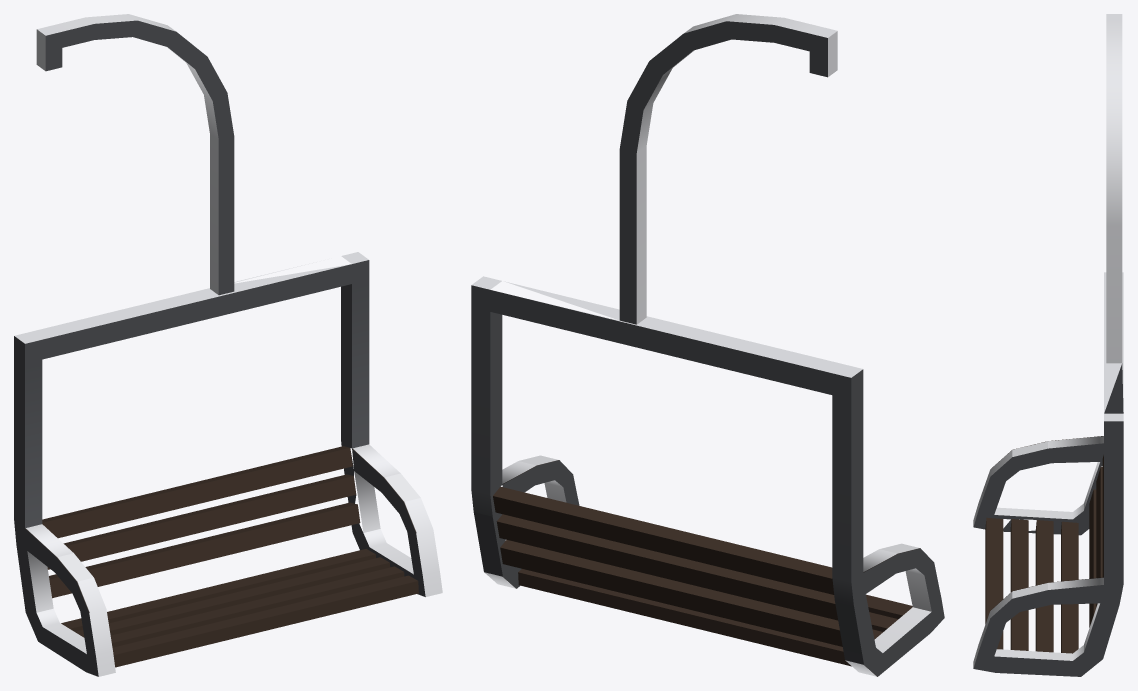
File: feabcb81-2474-45bb-88cf-941aac67ac1e.glb
3 renders of one model, left to right at view 1: azimuth 30°, elevation 25°; view 2: azimuth 150°, elevation 25°; view 3: azimuth 270°, elevation 25°, orthographic. The views are drawn at different scales.
Parts seen in each view (by area): view 1: pCube55; view 2: pCube55; view 3: pCube55.
Boxes of the visible parts, <box> form: pCube55: <box>14,14,442,676</box>; pCube55: <box>471,14,944,676</box>; pCube55: <box>973,14,1123,676</box>.
Bounding box in the file's own units: 168 × 276 × 71.67.
1 material, 1 textured.
